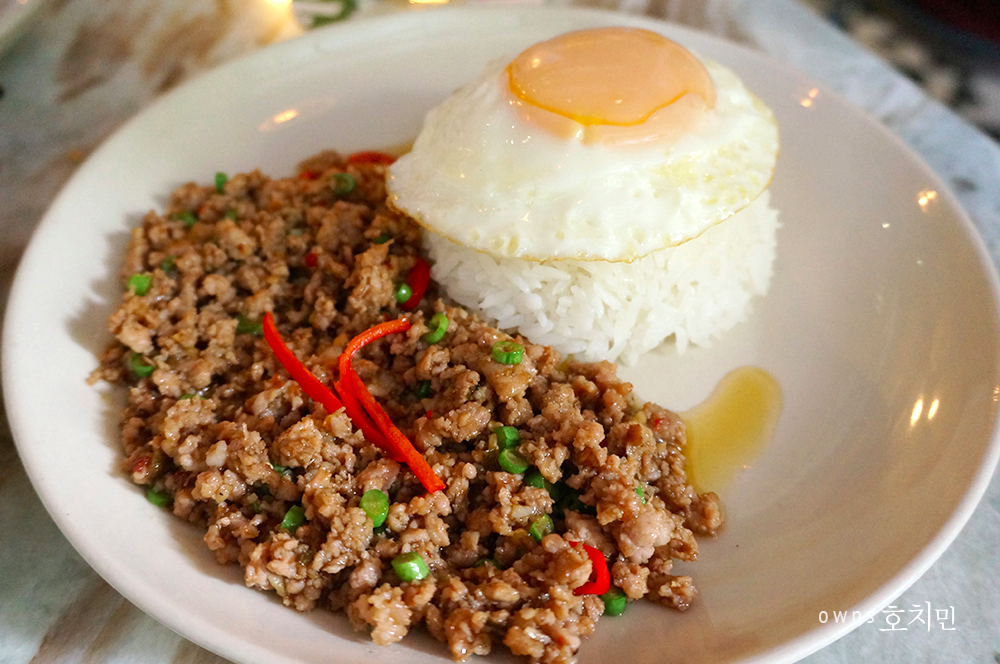fried egg: (405, 29, 760, 235)
plain rice: (489, 261, 666, 343), (673, 246, 748, 316)
